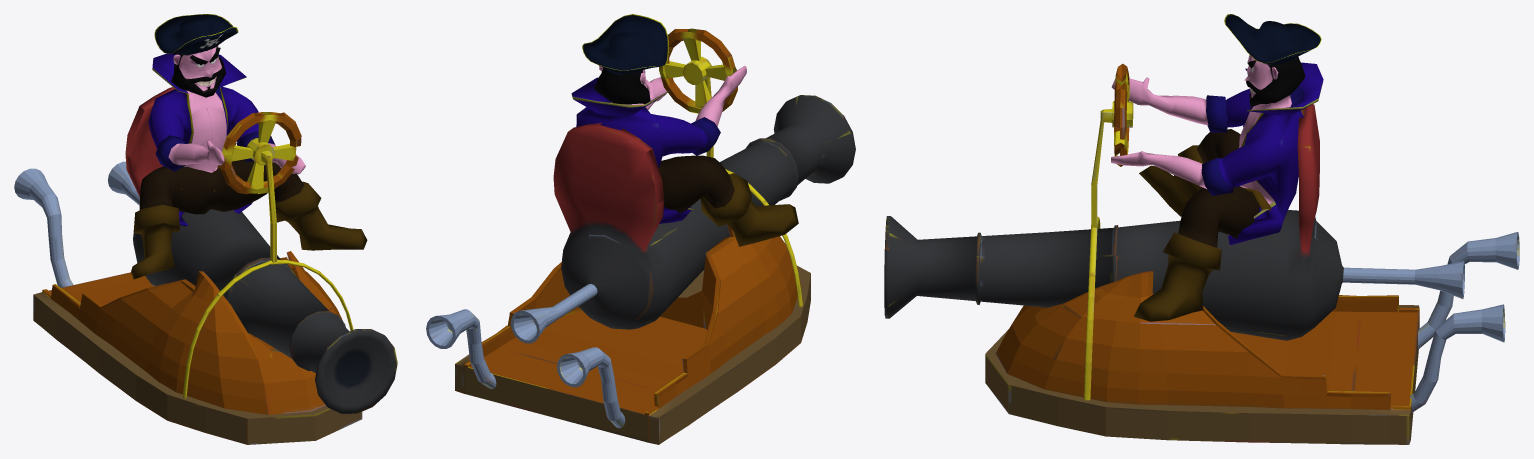
File: pirataGiroDER_000559.obj
3 views of the same model, side by side, from view 1: azimuth 30°, elevation 25°; view 2: azimuth 150°, elevation 25°; view 3: azimuth 270°, elevation 25° (orthographic). The views are drawn at different scales.
Parts seen in each view (by area): view 1: carro_pirata, Pirata_PirataH; view 2: carro_pirata, Pirata_PirataH; view 3: carro_pirata, Pirata_PirataH.
Part boxes in pixels (x1,y1,x2,y2): carro_pirata: (14,87,397,444); Pirata_PirataH: (131,14,367,279); carro_pirata: (426,28,855,444); Pirata_PirataH: (571,14,798,246); carro_pirata: (884,64,1519,444); Pirata_PirataH: (1111,14,1323,321).
Bounding box in the file's own units: 5.7 × 7.72 × 12.1.
2 materials, 2 textured.
